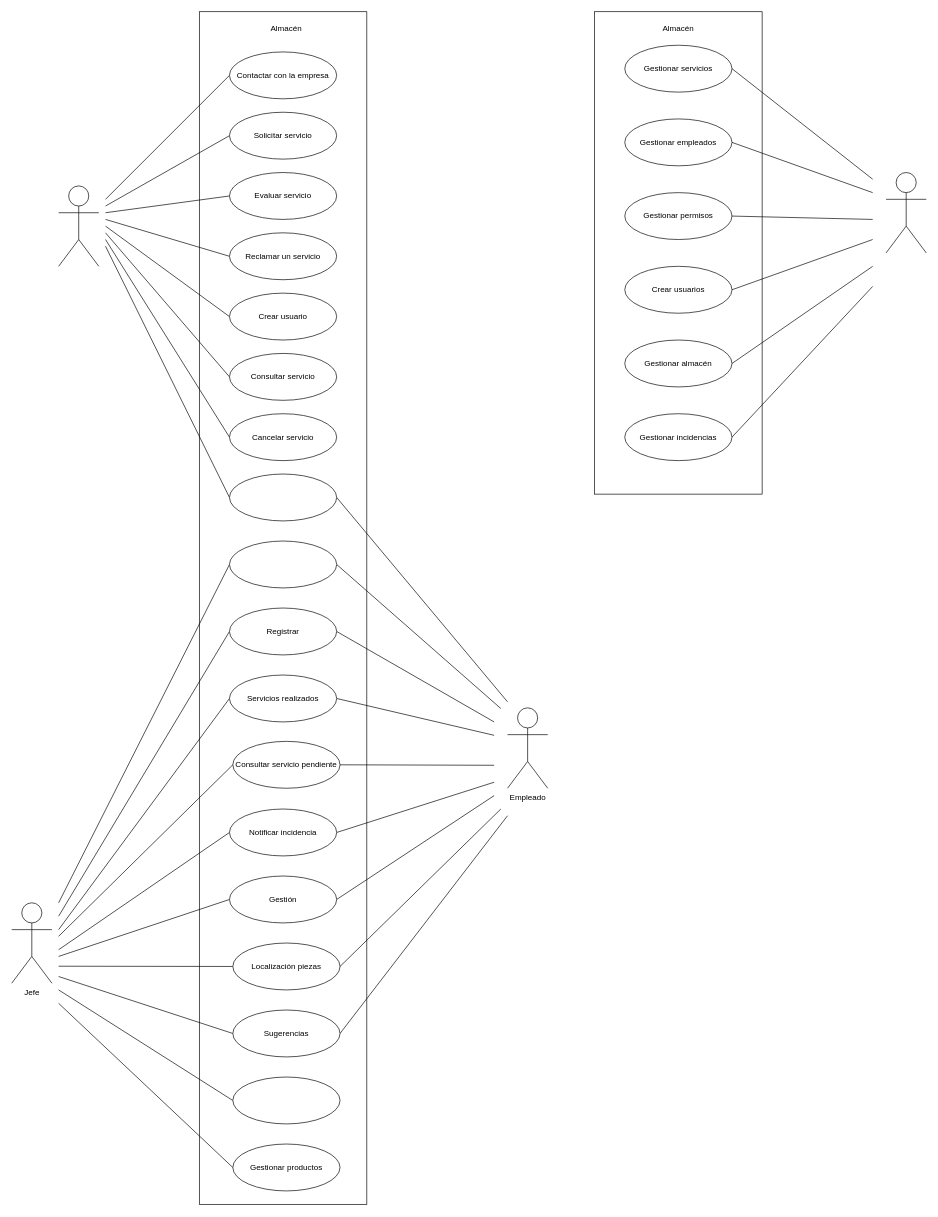
Some shapes in this 938 by 1217 pixel diagram are drawn without their labels. Here are the shapes that lost their labels. From the top down, the centre of each, then its label:
At point 78,225: "Cliente".
At point 905,212: "Admin".
At point 283,497: "Finalizar servicio".
At point 283,564: "Comunicación".
At point 286,1100: "Gestionar trabajadores".
